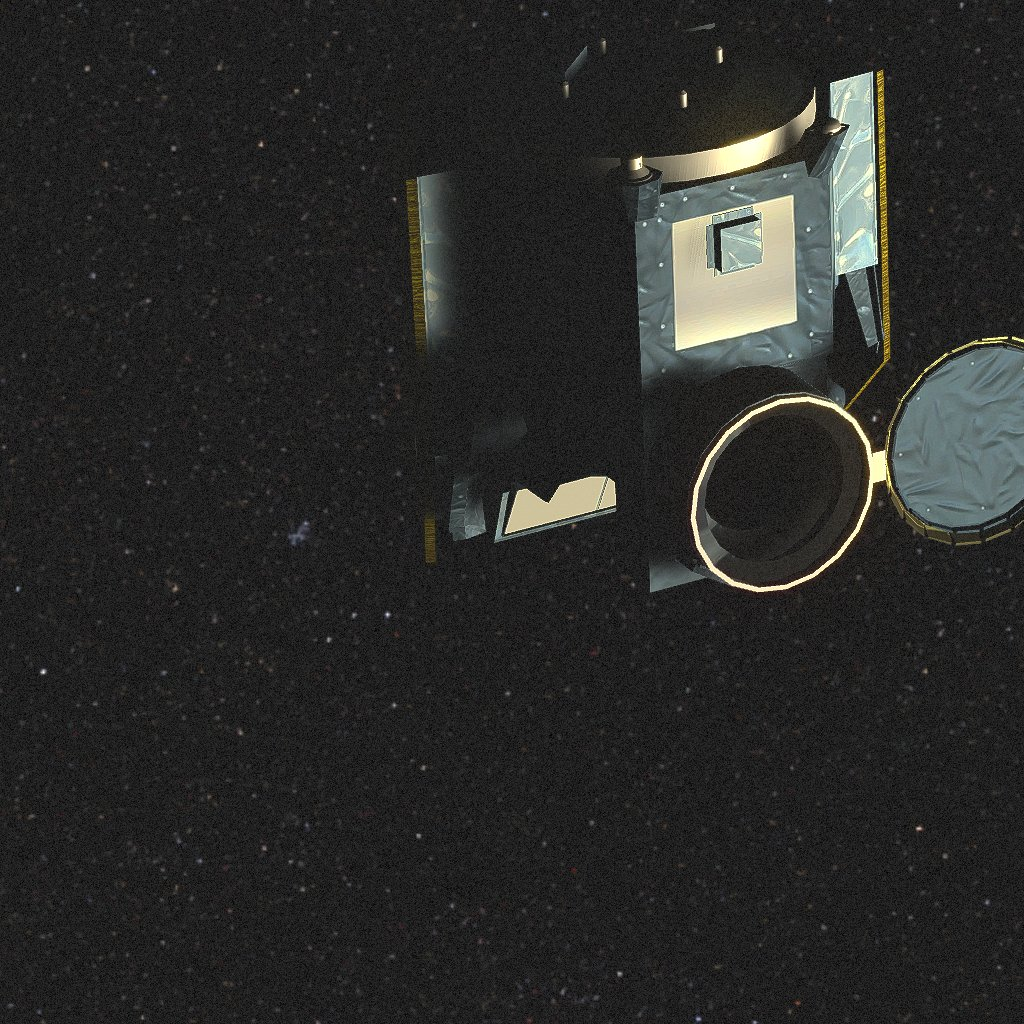cheops: (390, 20, 1024, 592)
